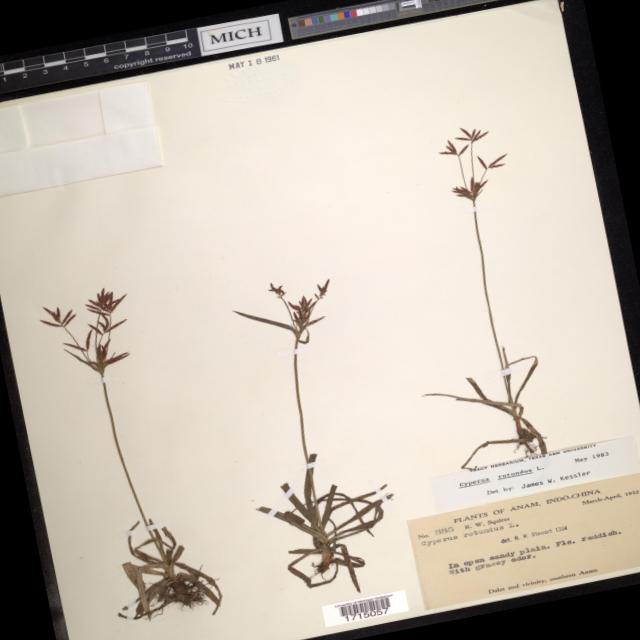cyperus: (29, 276, 162, 380), (225, 267, 347, 358), (419, 112, 518, 214)
